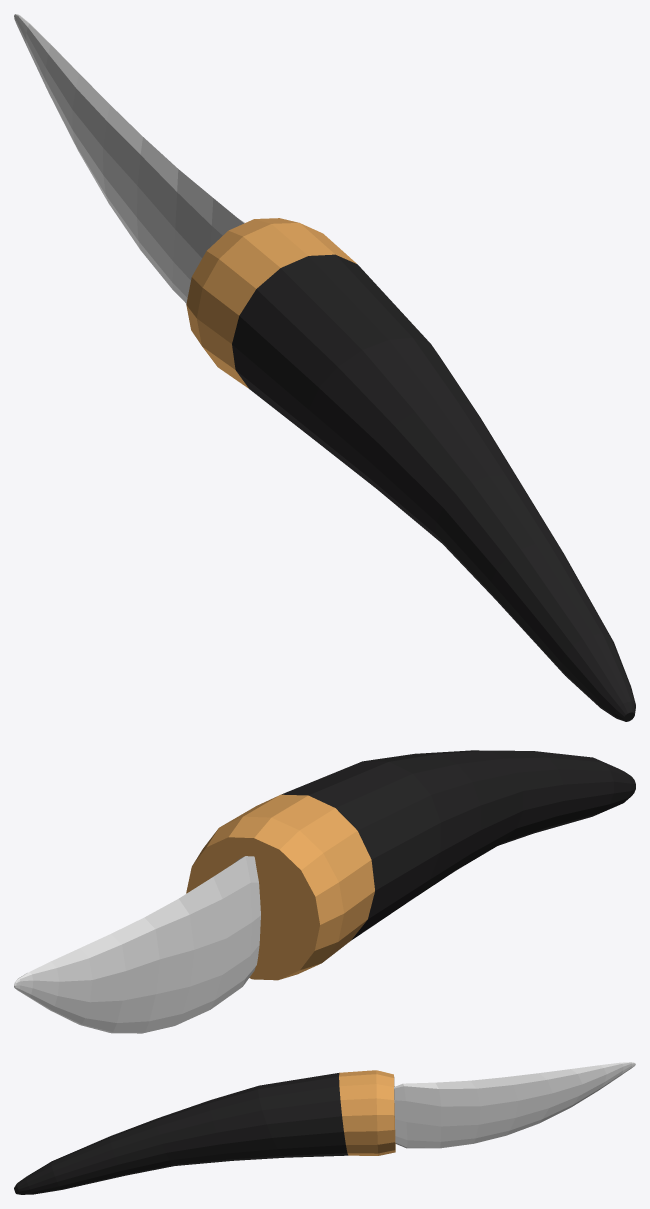
The model's file is CouteauPréhistorique.fbx.
3 renders of one model, top to bottom at view 1: azimuth 30°, elevation 25°; view 2: azimuth 150°, elevation 25°; view 3: azimuth 270°, elevation 25°, orthographic. The views are drawn at different scales.
Visible parts, largest first — view 1: Cylinder; view 2: Cylinder; view 3: Cylinder.
Boxes of the visible parts, box(x1,y1,x2,y2) form: Cylinder: box(14, 14, 635, 721); Cylinder: box(14, 750, 635, 1033); Cylinder: box(14, 1062, 635, 1194).
Size of the model in its own units: 2.94 by 4.99 by 21.28.
